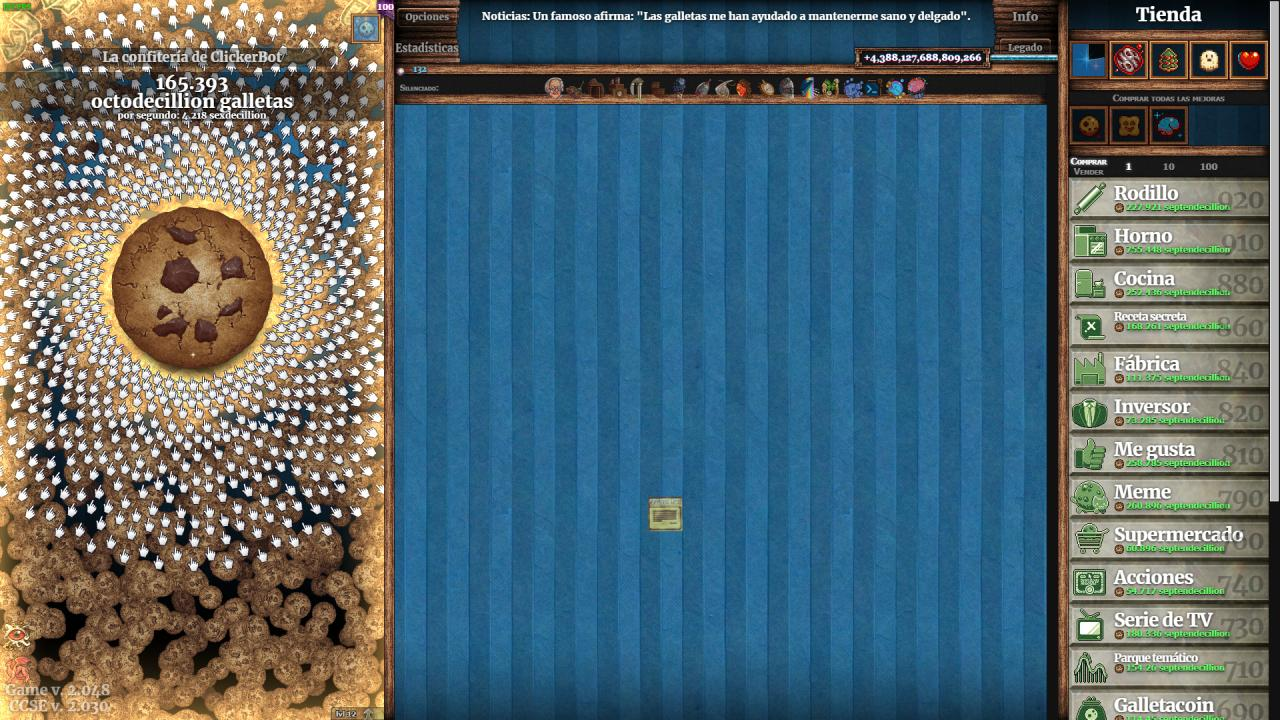GoldenCartridge: (648, 495, 685, 533)
